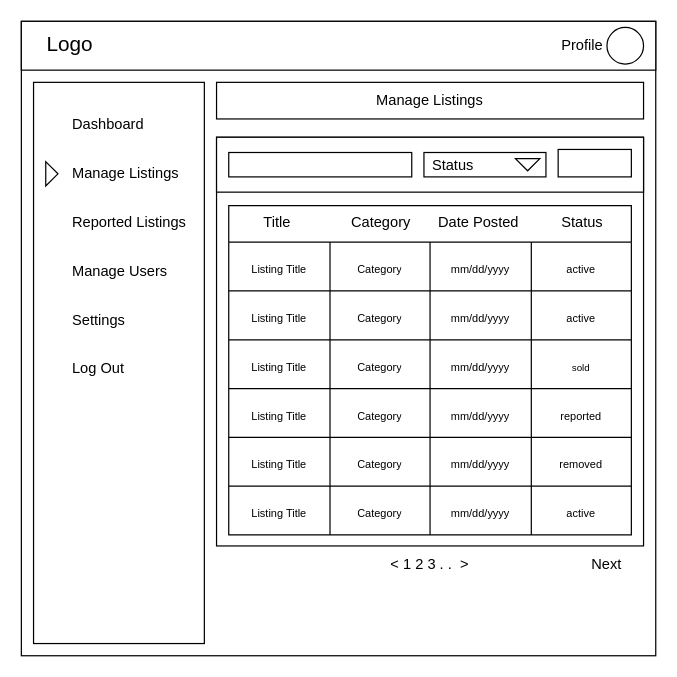
Image size: 677x677. Some labels were removed from this diagram. Here are the shapes that lost their labels. From the top down, the centre of each, then its label:
pixel 320 164: Search
pixel 594 162: flter
